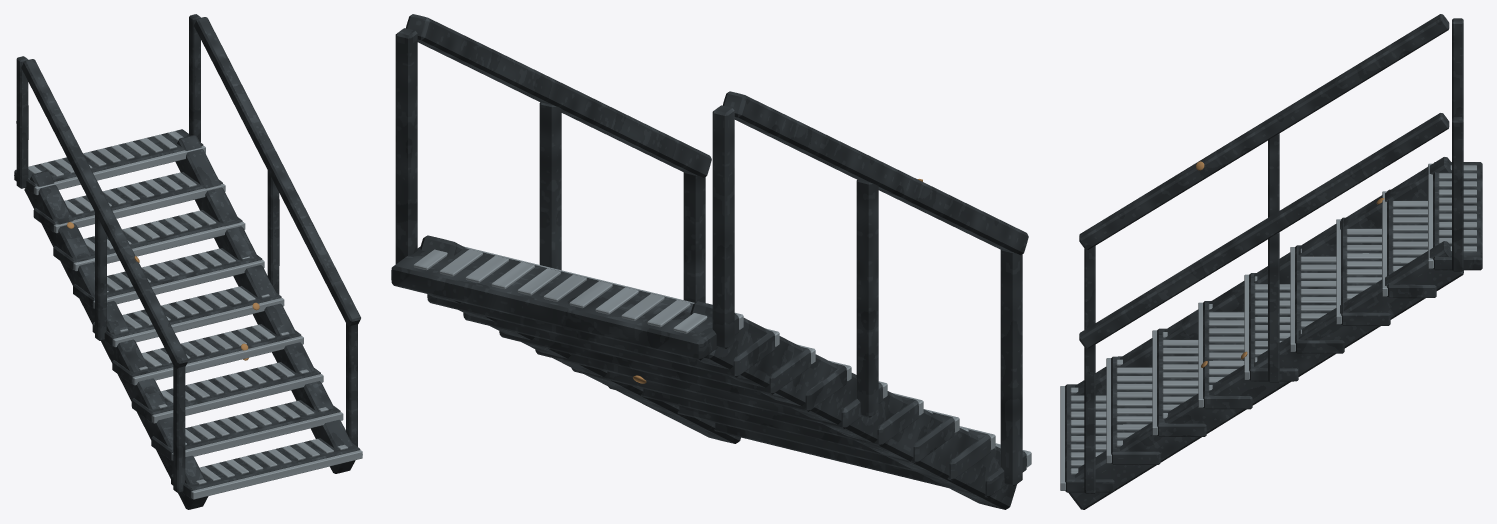
The picture shows the model from 3 angles, left to right: view 1: azimuth 30°, elevation 25°; view 2: azimuth 150°, elevation 25°; view 3: azimuth 270°, elevation 25°; orthographic projection. The views are drawn at different scales.
Visible parts, largest first — view 1: gunmetal-cast-iron, machined-bearing-steel; view 2: gunmetal-cast-iron, machined-bearing-steel; view 3: gunmetal-cast-iron, machined-bearing-steel.
Boxes of the visible parts, x1,y1,x2,y2 form: gunmetal-cast-iron: [14, 14, 360, 509]; machined-bearing-steel: [28, 131, 362, 499]; gunmetal-cast-iron: [391, 14, 1028, 509]; machined-bearing-steel: [413, 246, 1031, 467]; gunmetal-cast-iron: [1065, 14, 1482, 509]; machined-bearing-steel: [1060, 163, 1476, 490].
Size of the model in its own units: 1.3 by 2.29 by 2.21.
3 materials, 2 textured.
